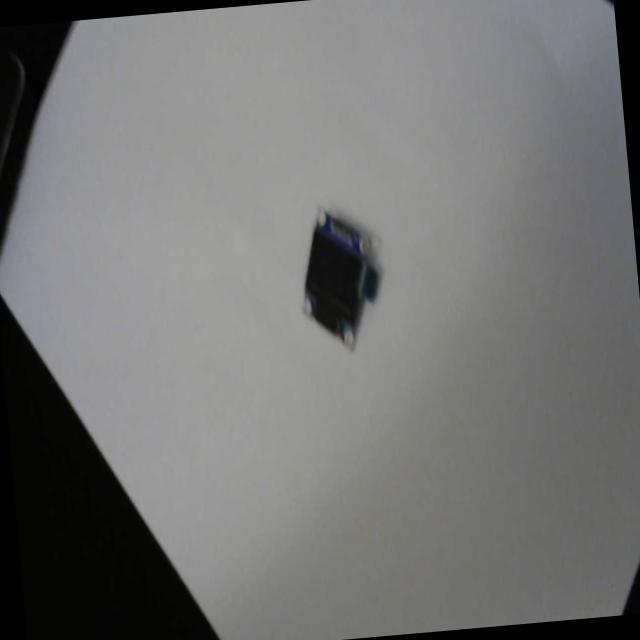oled: (292, 192, 393, 361)
